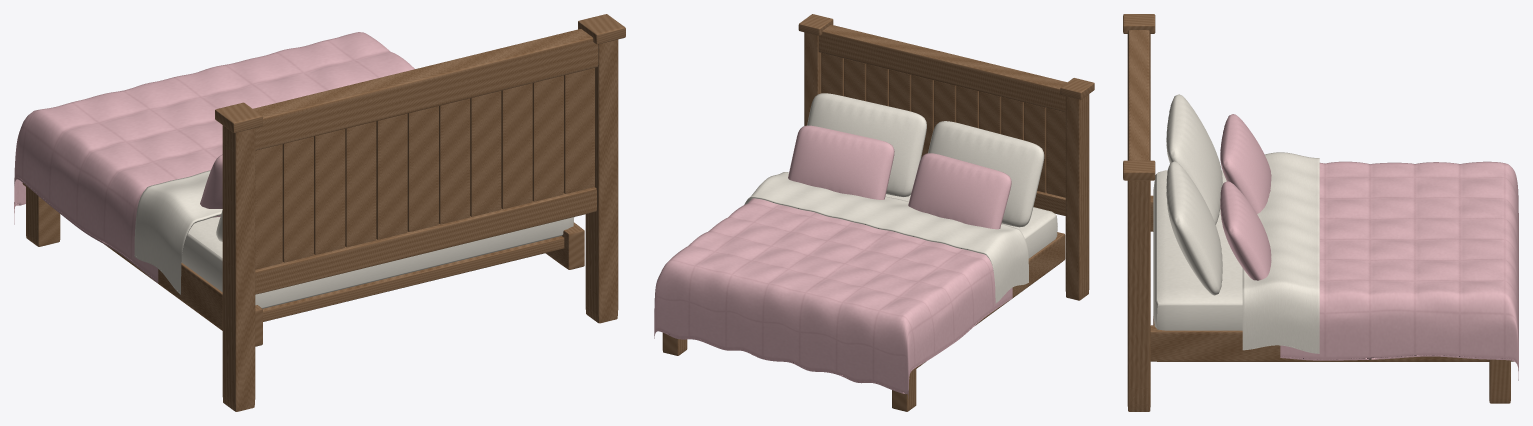
The model's file is Bed_Neat.glb.
3 renders of one model, left to right at view 1: azimuth 30°, elevation 25°; view 2: azimuth 150°, elevation 25°; view 3: azimuth 270°, elevation 25°, orthographic. The views are drawn at different scales.
Visible parts, largest first — view 1: Pink_Quilt, Head_Top_Rail, Head_Post_-1, Head_Lower_Rail, Head_Post_1, Mattress_and_Fitted_Sheet, Ivory_Folded_Blanket, Mattress_Support, Head_Plank_03, Head_Plank_04, Head_Plank_01, Head_Plank_07 (+13 smaller); view 2: Pink_Quilt, Ivory_Folded_Blanket, Head_Top_Rail, Pink_Pillow_2, Pink_Pillow_1, Ivory_Pillow_2, Ivory_Pillow_1, Head_Post_-1, Head_Plank_00, Mattress_and_Fitted_Sheet, Side_Rail_-1, Head_Post_1 (+15 smaller); view 3: Pink_Quilt, Ivory_Folded_Blanket, Mattress_and_Fitted_Sheet, Head_Post_1, Ivory_Pillow_2, Side_Rail_1, Ivory_Pillow_1, Pink_Pillow_1, Pink_Pillow_2, Head_Top_Rail, Foot_Leg_1, Head_Post_Cap_1 (+2 smaller).
Part boxes in pixels (x1=…): Pink_Quilt: x1=14, y1=32, x2=414, y2=283; Head_Top_Rail: x1=253, y1=29, x2=598, y2=150; Head_Post_-1: x1=222, y1=125, x2=255, y2=411; Head_Lower_Rail: x1=255, y1=187, x2=596, y2=294; Head_Post_1: x1=585, y1=39, x2=618, y2=323; Mattress_and_Fitted_Sheet: x1=181, y1=217, x2=574, y2=308; Ivory_Folded_Blanket: x1=134, y1=170, x2=222, y2=294; Mattress_Support: x1=263, y1=236, x2=564, y2=321; Head_Plank_03: x1=345, y1=121, x2=376, y2=247; Head_Plank_04: x1=376, y1=113, x2=407, y2=239; Head_Plank_01: x1=282, y1=136, x2=313, y2=262; Head_Plank_07: x1=470, y1=91, x2=501, y2=216; Pink_Quilt: x1=654, y1=198, x2=1012, y2=398; Ivory_Folded_Blanket: x1=744, y1=172, x2=1028, y2=303; Head_Top_Rail: x1=818, y1=24, x2=1066, y2=112; Pink_Pillow_2: x1=788, y1=125, x2=894, y2=199; Pink_Pillow_1: x1=908, y1=153, x2=1011, y2=229; Ivory_Pillow_2: x1=807, y1=93, x2=926, y2=196; Ivory_Pillow_1: x1=928, y1=121, x2=1044, y2=227; Head_Post_-1: x1=1065, y1=94, x2=1089, y2=300; Head_Plank_00: x1=1046, y1=108, x2=1065, y2=197; Mattress_and_Fitted_Sheet: x1=885, y1=194, x2=1057, y2=258; Side_Rail_-1: x1=916, y1=232, x2=1065, y2=368; Head_Post_1: x1=804, y1=32, x2=821, y2=125; Pink_Quilt: x1=1280, y1=161, x2=1518, y2=380; Ivory_Folded_Blanket: x1=1242, y1=152, x2=1319, y2=353; Mattress_and_Fitted_Sheet: x1=1153, y1=170, x2=1242, y2=330; Head_Post_1: x1=1127, y1=180, x2=1150, y2=411; Ivory_Pillow_2: x1=1166, y1=161, x2=1222, y2=295; Side_Rail_1: x1=1150, y1=325, x2=1513, y2=361; Ivory_Pillow_1: x1=1166, y1=94, x2=1222, y2=224; Pink_Pillow_1: x1=1220, y1=114, x2=1271, y2=213; Pink_Pillow_2: x1=1220, y1=181, x2=1271, y2=280; Head_Top_Rail: x1=1128, y1=30, x2=1149, y2=160; Foot_Leg_1: x1=1489, y1=359, x2=1510, y2=403; Head_Post_Cap_1: x1=1123, y1=160, x2=1155, y2=180.
Size of the model in its own units: 2.1 by 1.5 by 2.21.
4 materials, 4 textured.
